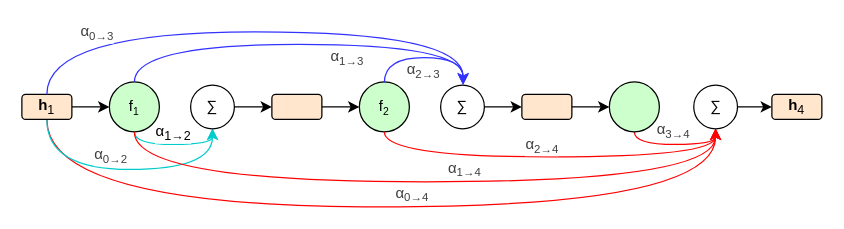
The diagram is 844 pixels wide and 229 high, and some of its shapes have lost their labels. The shapes that lost their labels are listed below. From the top down, each one's centre as x and y in pixels, then its label:
point 296,106: h 2
point 546,106: h 3
point 633,106: f 3
